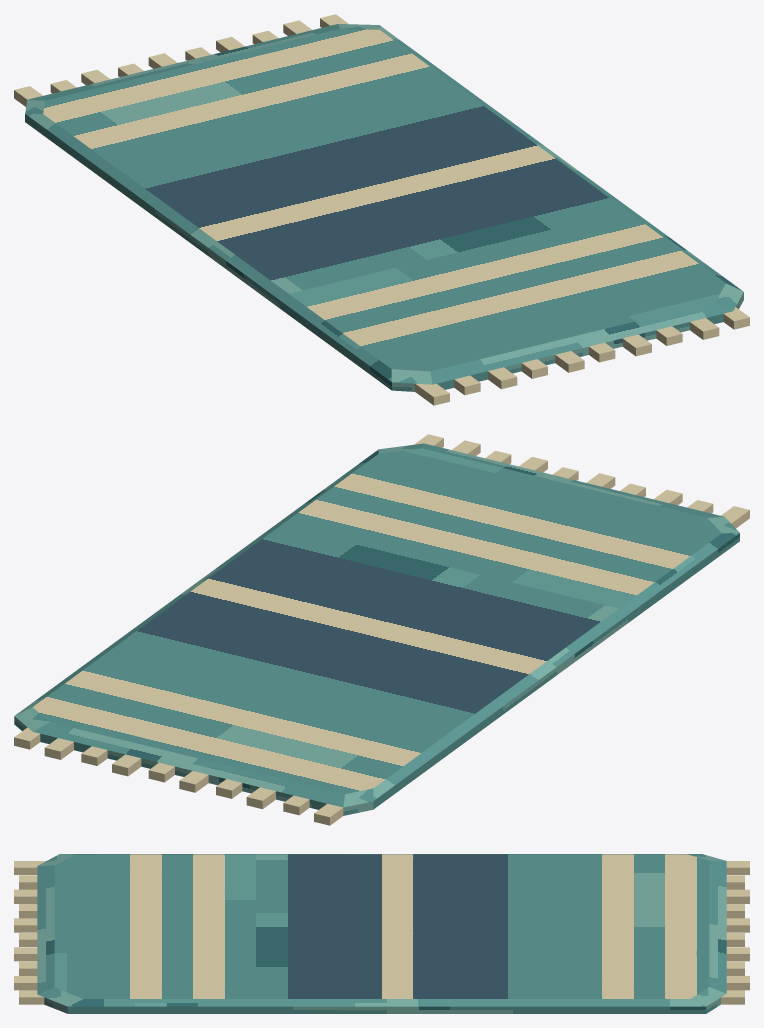
The model's file is towel-teal.glb.
3 views of the same model, one above another, from view 1: azimuth 30°, elevation 25°; view 2: azimuth 150°, elevation 25°; view 3: azimuth 270°, elevation 25° (orthographic). The views are drawn at different scales.
Visible parts, largest first — view 1: towel-teal; view 2: towel-teal; view 3: towel-teal.
Boxes of the visible parts, left/top/right/bottom form: towel-teal: left=14, top=14, right=749, bottom=405; towel-teal: left=14, top=434, right=749, bottom=825; towel-teal: left=14, top=854, right=749, bottom=1013.
Size of the model in its own units: 0.89 by 0.03 by 1.82.
Materials: 1 (1 with a texture image).
